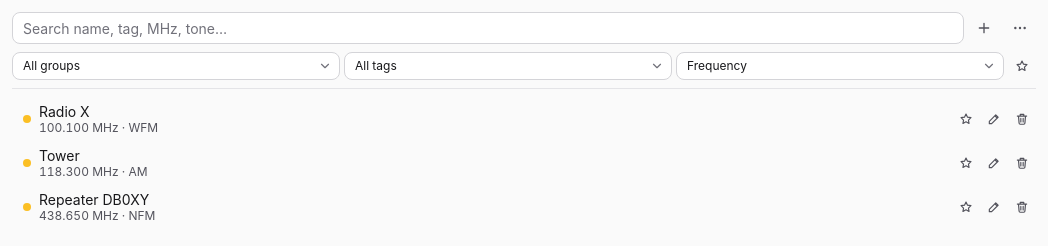
Test: BookmarksPanel › searches and filters by tag
The width and height of the screenshot is (1048, 246).
Expected: the list named "Bookmark list" is shown, [12,97,1036,229]
In the search field named "Search bookmarks": [488, 28] box [12,12,964,44], type "tower"
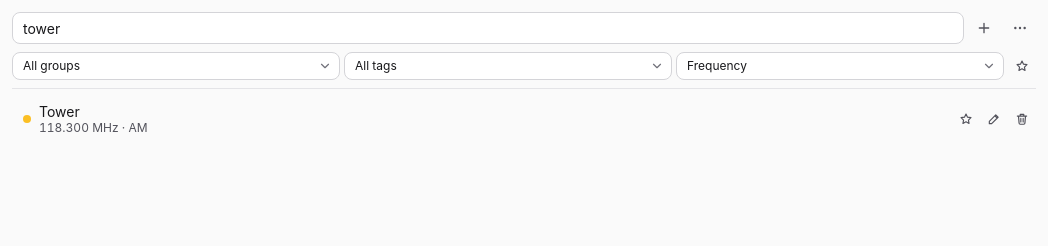
Expected: the button with aria-label "Tune to Tower" is shown, [12,99,950,139]
Clear the search field named "Search bookmarks": [488, 28] box [12,12,964,44]
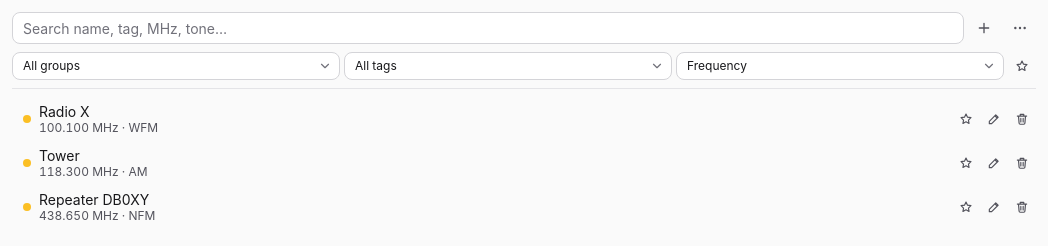
Select "ham" in the dropdown named "Tag": [508, 66] box [344,52,672,80]
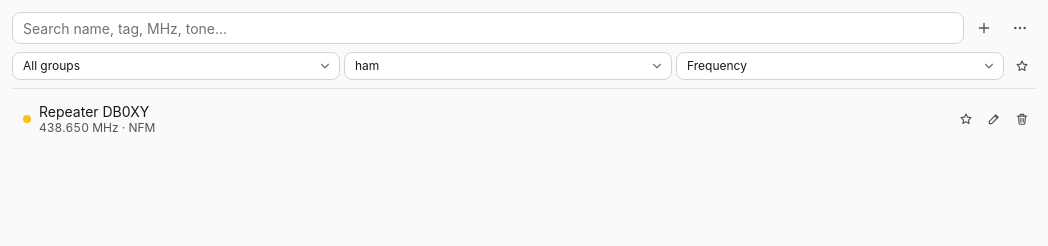
Result: the number of buttons named "Tune to" is 1 at [12,99,950,139]
In the search field named "Search bookmarks": [488, 28] box [12,12,964,44], type "nothing"
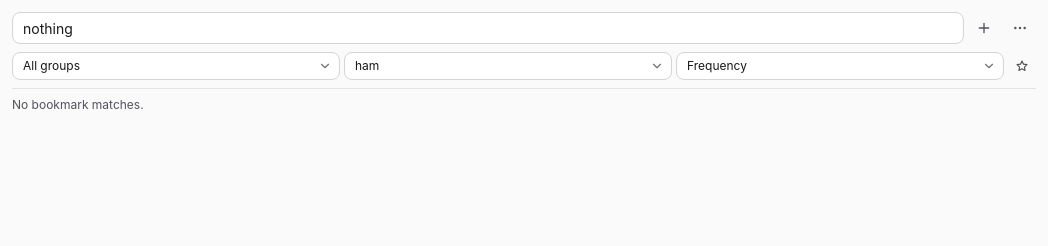
Result: the text "No bookmark matches." is shown at [12,97,144,112]
